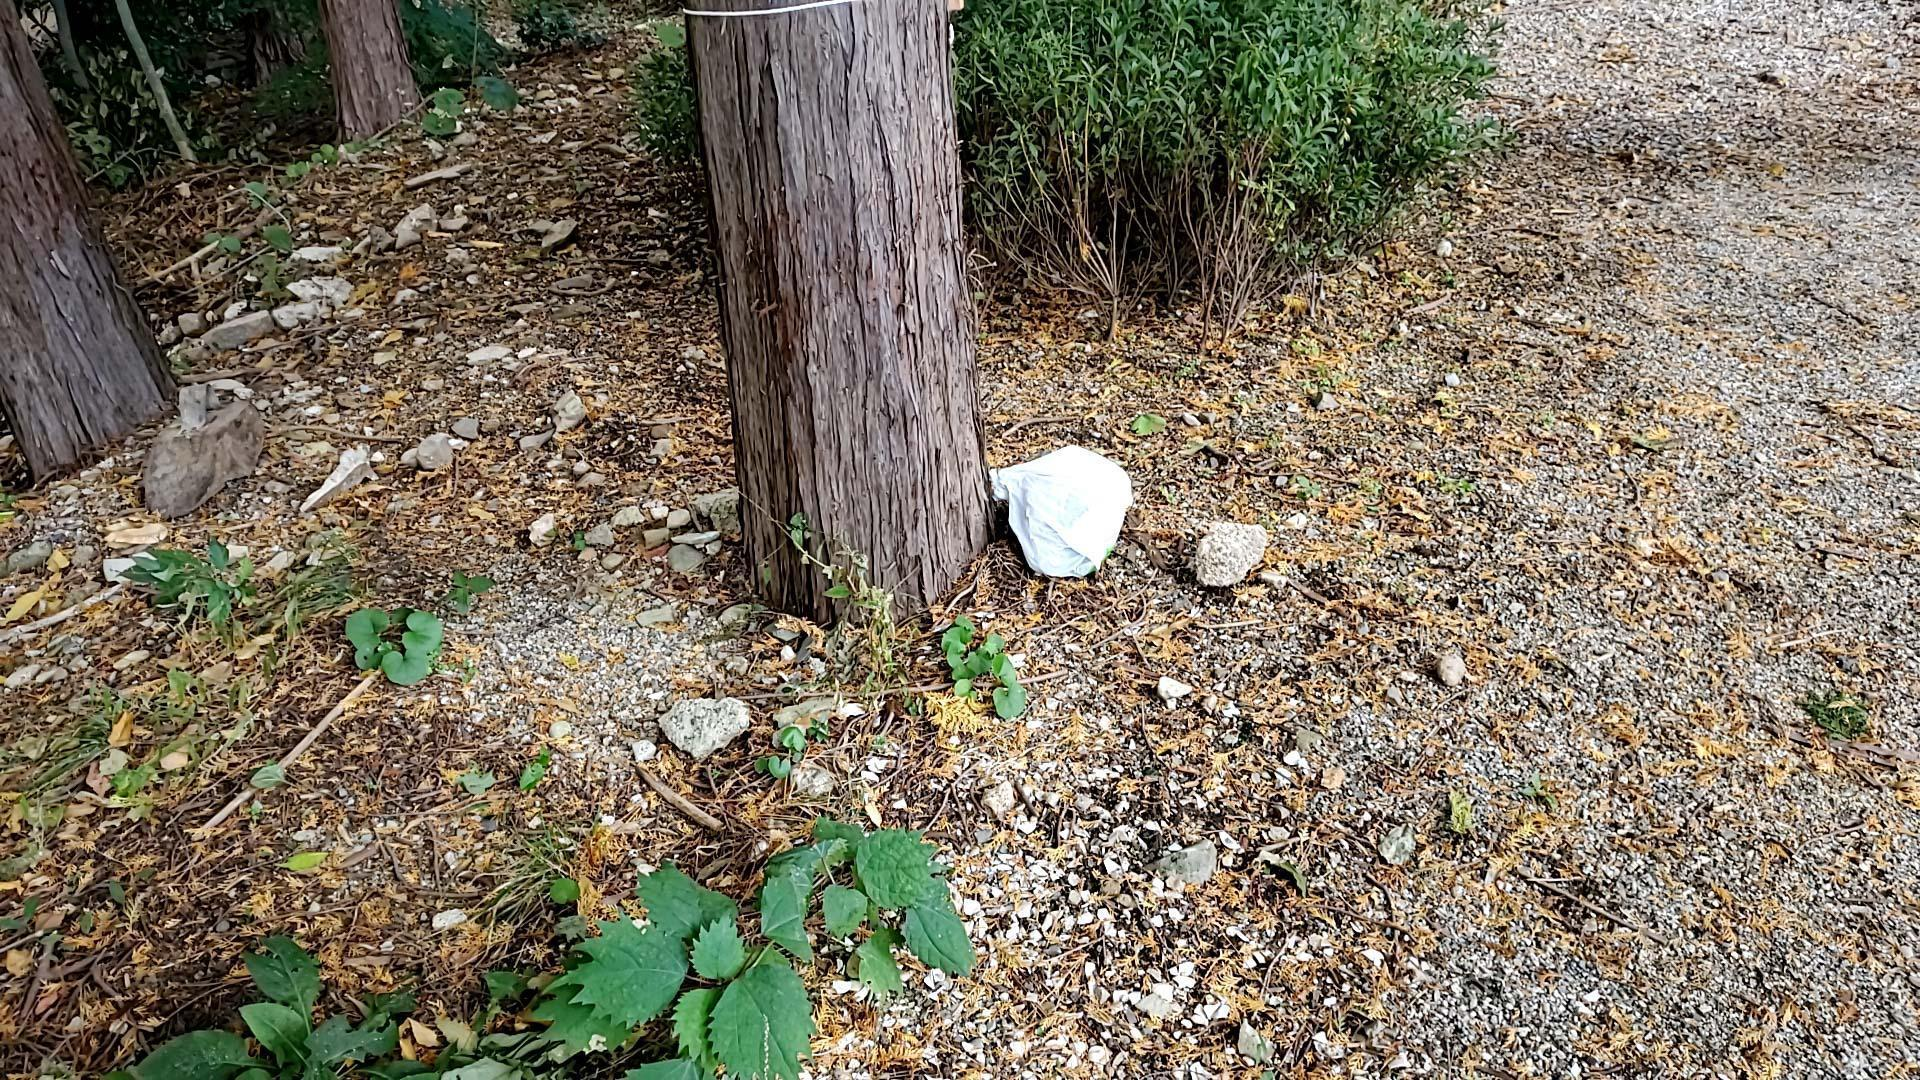white_bag: (975, 434, 1139, 583)
